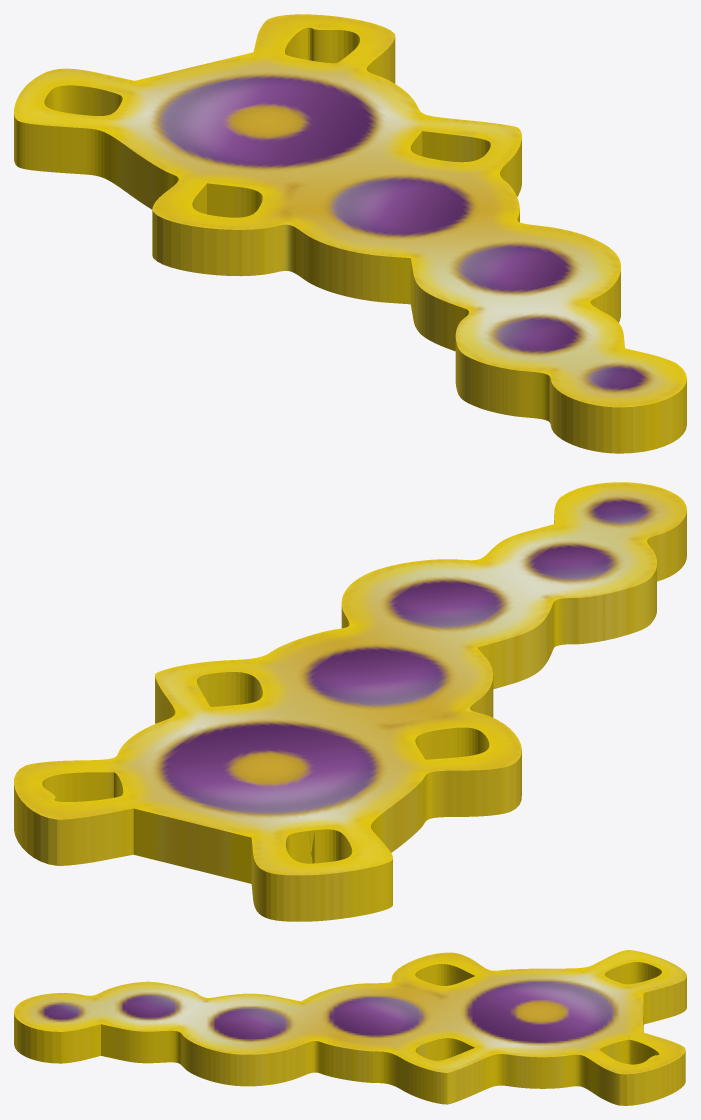
The picture shows the model from 3 angles, top to bottom: view 1: azimuth 30°, elevation 25°; view 2: azimuth 150°, elevation 25°; view 3: azimuth 270°, elevation 25°; orthographic projection. The views are drawn at different scales.
Parts seen in each view (by area): view 1: path1587; view 2: path1587; view 3: path1587.
Boxes of the visible parts, left/top/right/bottom form: path1587: left=14, top=14, right=686, bottom=453; path1587: left=14, top=482, right=686, bottom=921; path1587: left=14, top=950, right=686, bottom=1105.
Bounding box in the file's own units: 42.15 × 5 × 96.45.
Materials: 1 (1 with a texture image).
